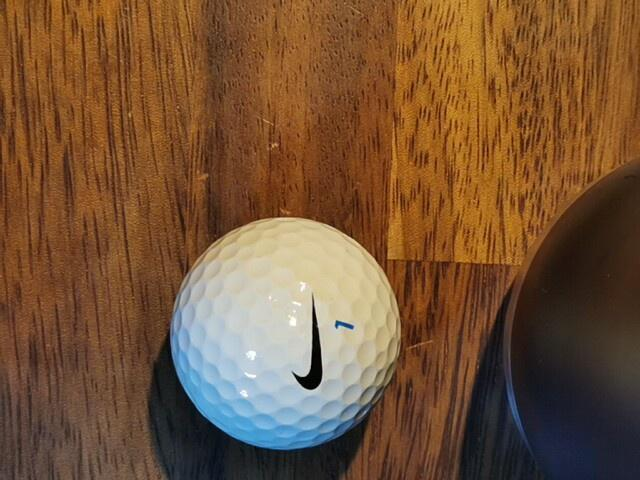Ball: (170, 218, 402, 451)
Nike: (291, 292, 323, 390)
